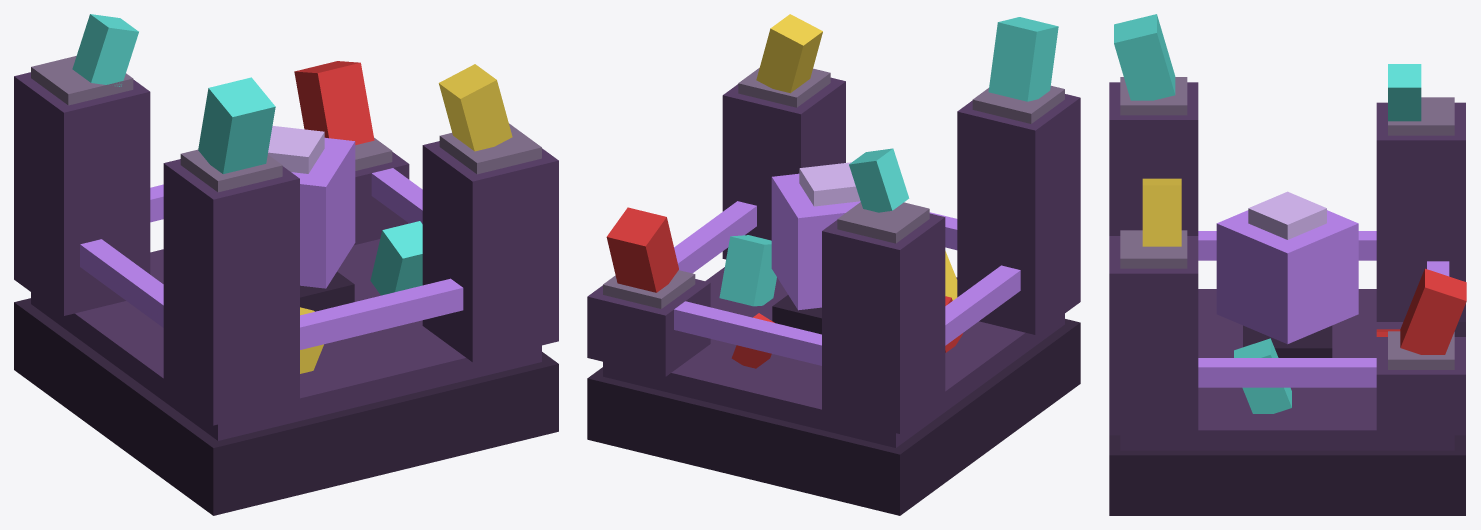
The model's file is vein.glb.
3 renders of one model, left to right at view 1: azimuth 30°, elevation 25°; view 2: azimuth 150°, elevation 25°; view 3: azimuth 270°, elevation 25°, orthographic. The views are drawn at different scales.
Visible parts, largest first — view 1: body.019, core; view 2: body.019, core; view 3: body.019, core.
Boxes of the visible parts, x1,y1,x2,y2 form: body.019: [14, 14, 558, 515]; core: [268, 126, 355, 288]; body.019: [587, 14, 1080, 515]; core: [771, 162, 860, 310]; body.019: [1109, 14, 1466, 515]; core: [1216, 191, 1358, 344].
Bounding box in the file's own units: 1 × 1.12 × 1.
